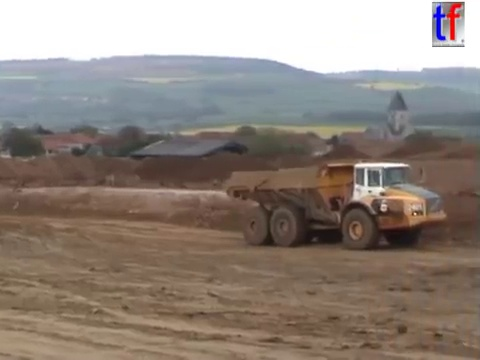truck: (218, 156, 449, 251)
